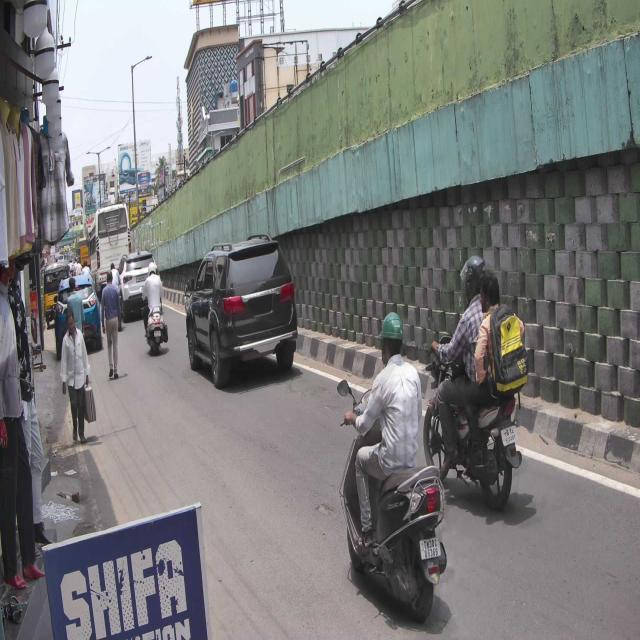double_rider: (439, 255, 528, 517)
single_rider: (340, 308, 436, 618)
